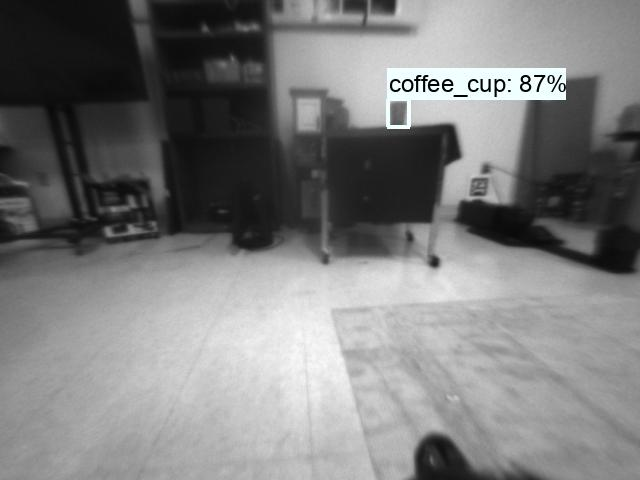coffee_cup: (387, 99, 410, 126)
